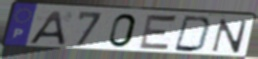0: (107, 13, 138, 49)
7: (76, 10, 105, 48)
A: (26, 10, 67, 47)
D: (172, 15, 214, 54)
E: (136, 12, 180, 53)
N: (209, 18, 250, 54)
